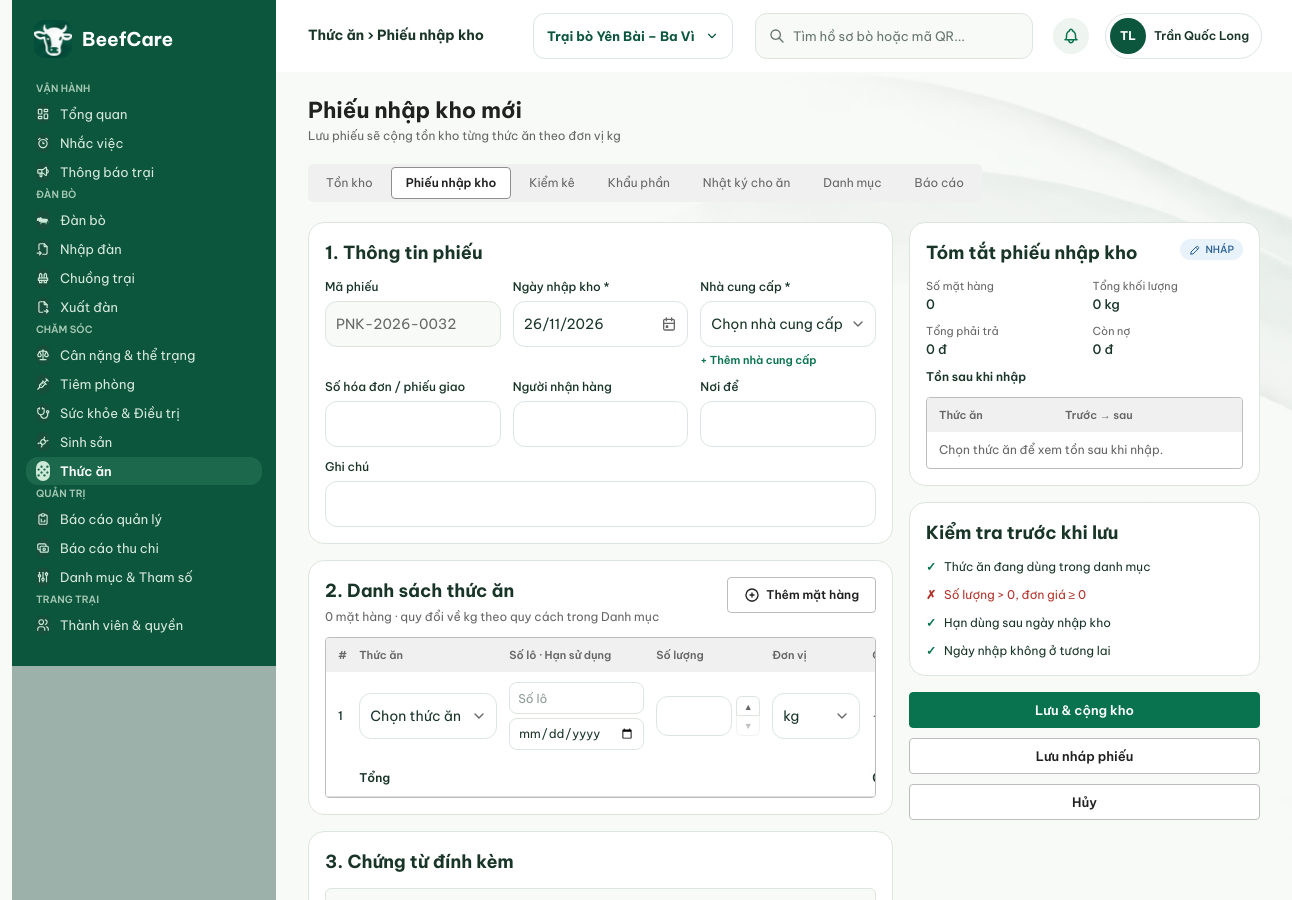
Scenario: SCR-79 Feed Receipt form › validates a supplier and a complete positive-quantity line before saving
Expected: the heading "Phiếu nhập kho mới" is shown, top-left (308, 96), bottom-right (522, 124)
Click the button "Lưu & cộng kho": point(1084, 710) top-left (909, 692), bottom-right (1260, 728)
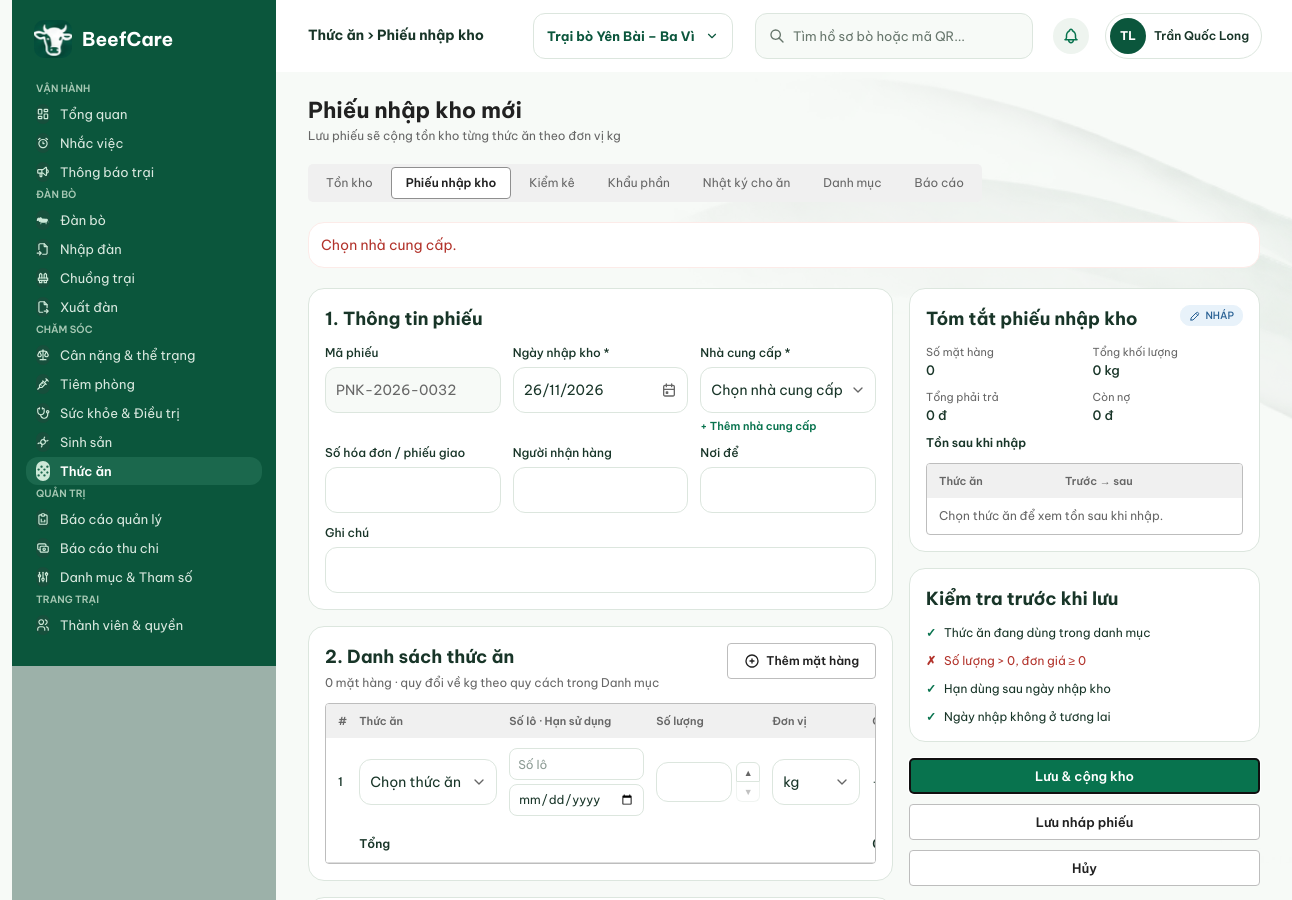
Now the message reads "Chọn nhà cung cấp.", box top-left (321, 236), bottom-right (456, 254)
Select "Đại lý TACN Hưng Thịnh – Sơn Tây" in the dropdown labelled "Nhà cung cấp": point(788, 390) top-left (700, 367), bottom-right (876, 413)
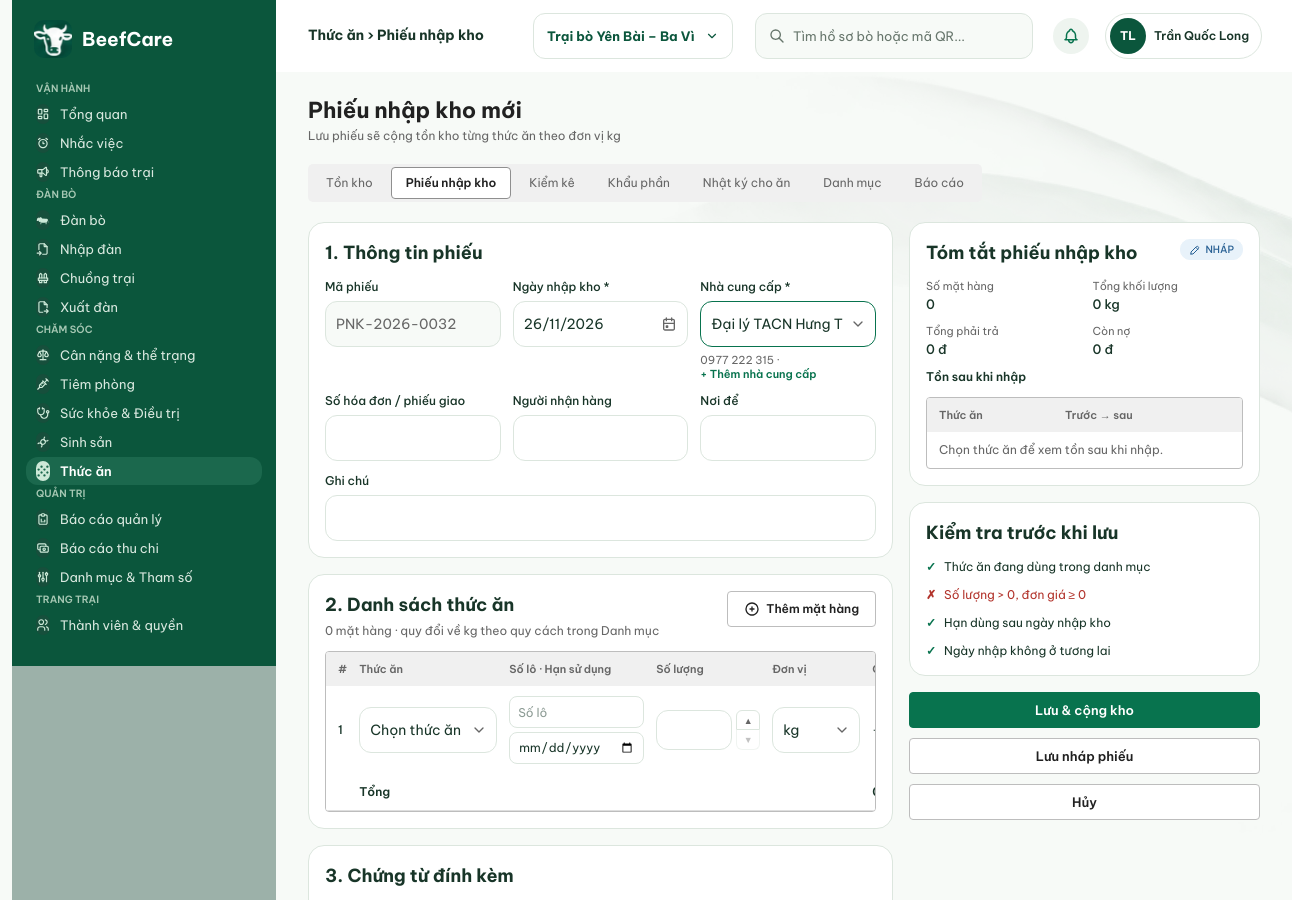
Select "TA-01 · Cỏ voi" in the dropdown named "Thức ăn dòng 1": point(428, 730) top-left (359, 707), bottom-right (497, 753)
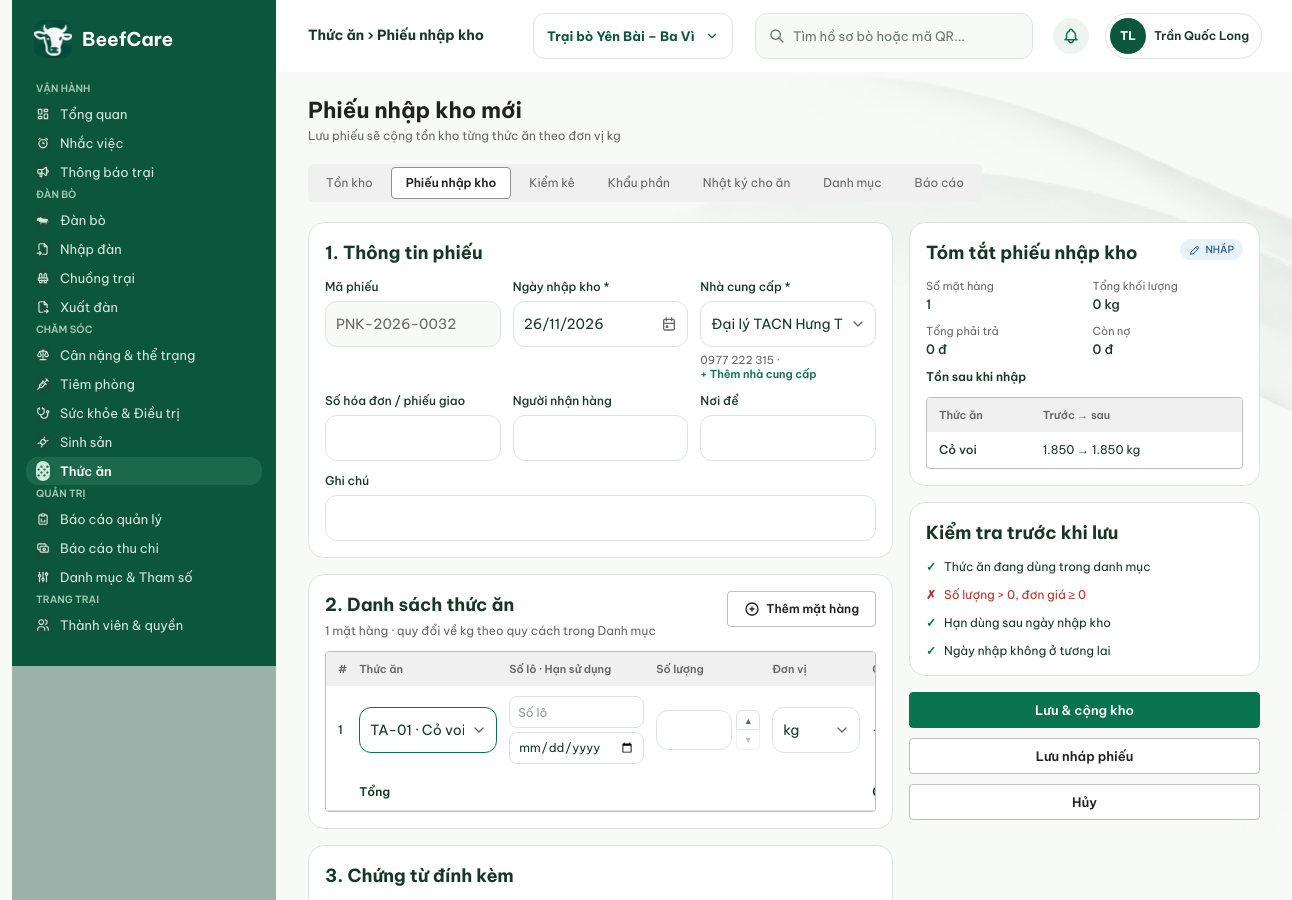
Click the button "Lưu nháp phiếu": point(1084, 756) top-left (909, 738), bottom-right (1260, 774)
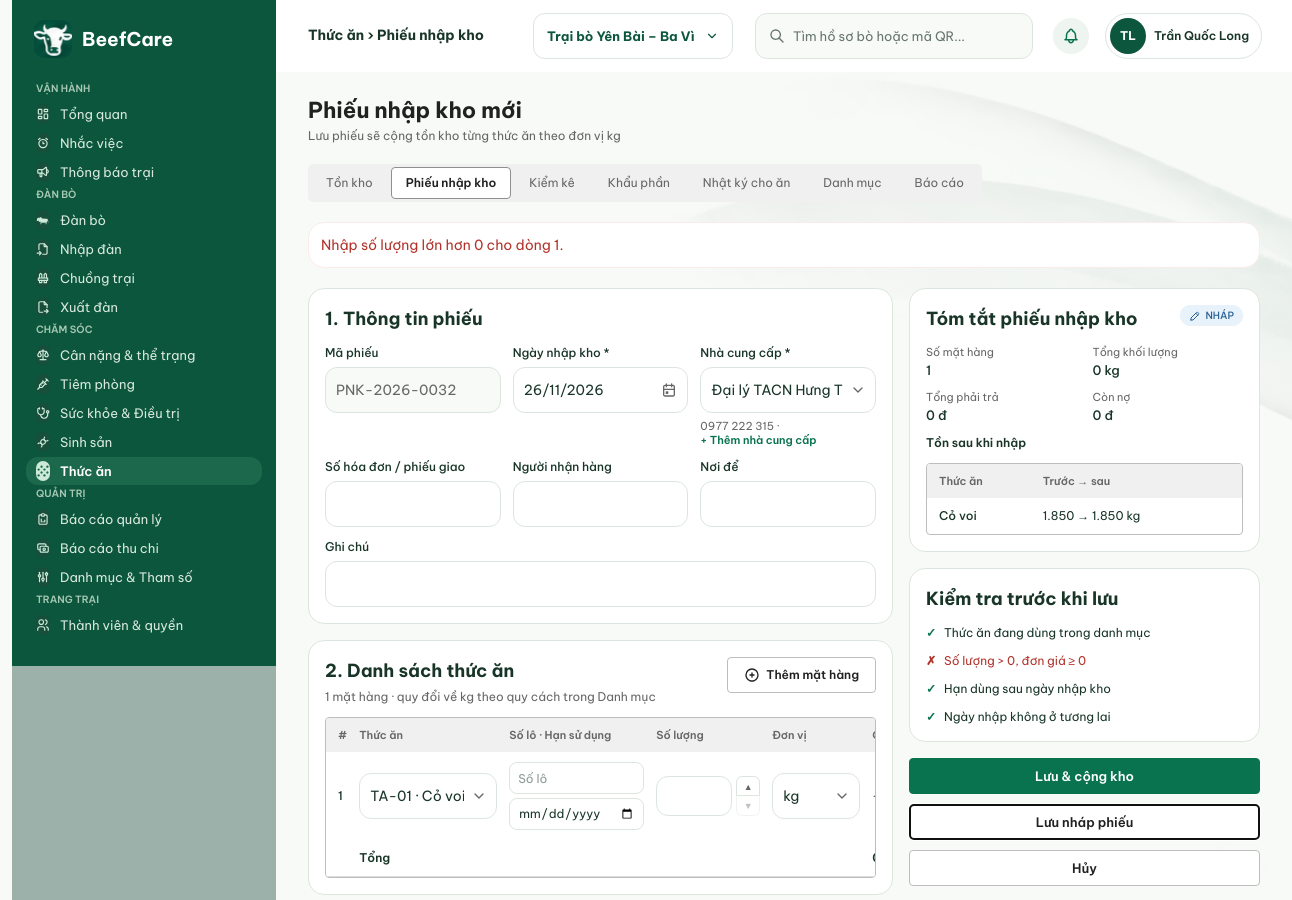
Now the message reads "Nhập số lượng lớn hơn 0 cho dòng 1.", box top-left (321, 236), bottom-right (563, 254)
